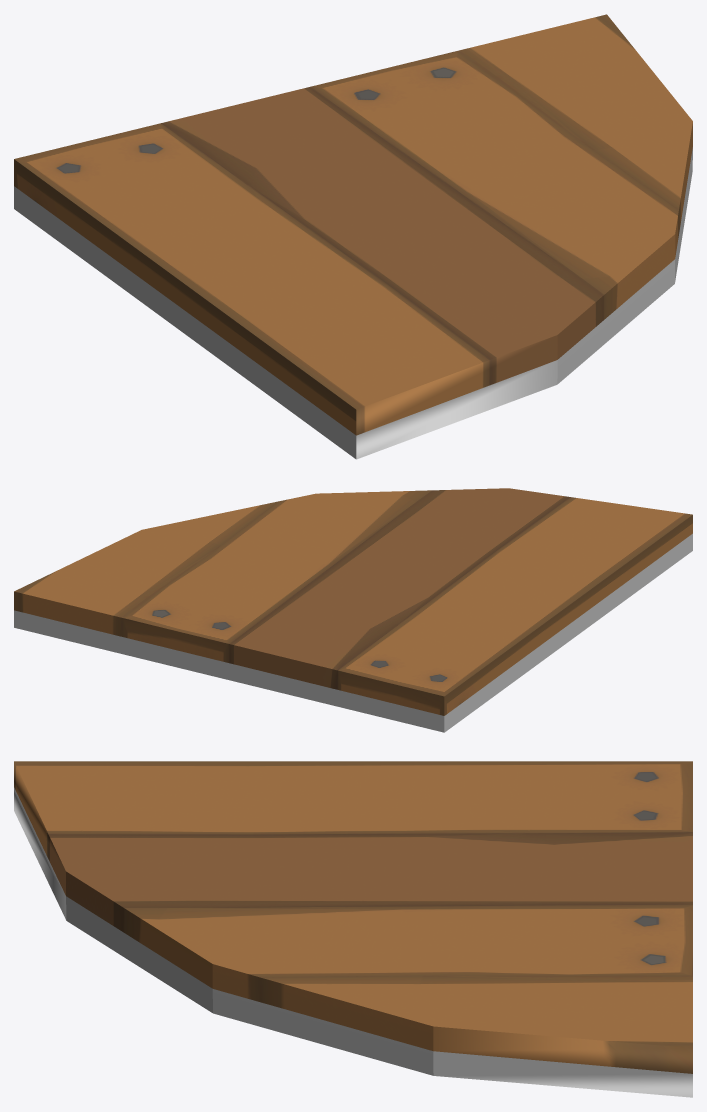
File: SM_Bld_Floor_Round_S_01.fbx
The picture shows the model from 3 angles, top to bottom: view 1: azimuth 30°, elevation 25°; view 2: azimuth 150°, elevation 25°; view 3: azimuth 270°, elevation 25°; orthographic projection. The views are drawn at different scales.
Visible parts, largest first — view 1: SM_Bld_Floor_Round_S_01; view 2: SM_Bld_Floor_Round_S_01; view 3: SM_Bld_Floor_Round_S_01.
Boxes of the visible parts, left/top/right/bottom form: SM_Bld_Floor_Round_S_01: left=14, top=14, right=692, bottom=459; SM_Bld_Floor_Round_S_01: left=14, top=488, right=692, bottom=732; SM_Bld_Floor_Round_S_01: left=14, top=761, right=692, bottom=1097.
Bounding box in the file's own units: 125 × 10.06 × 125.
